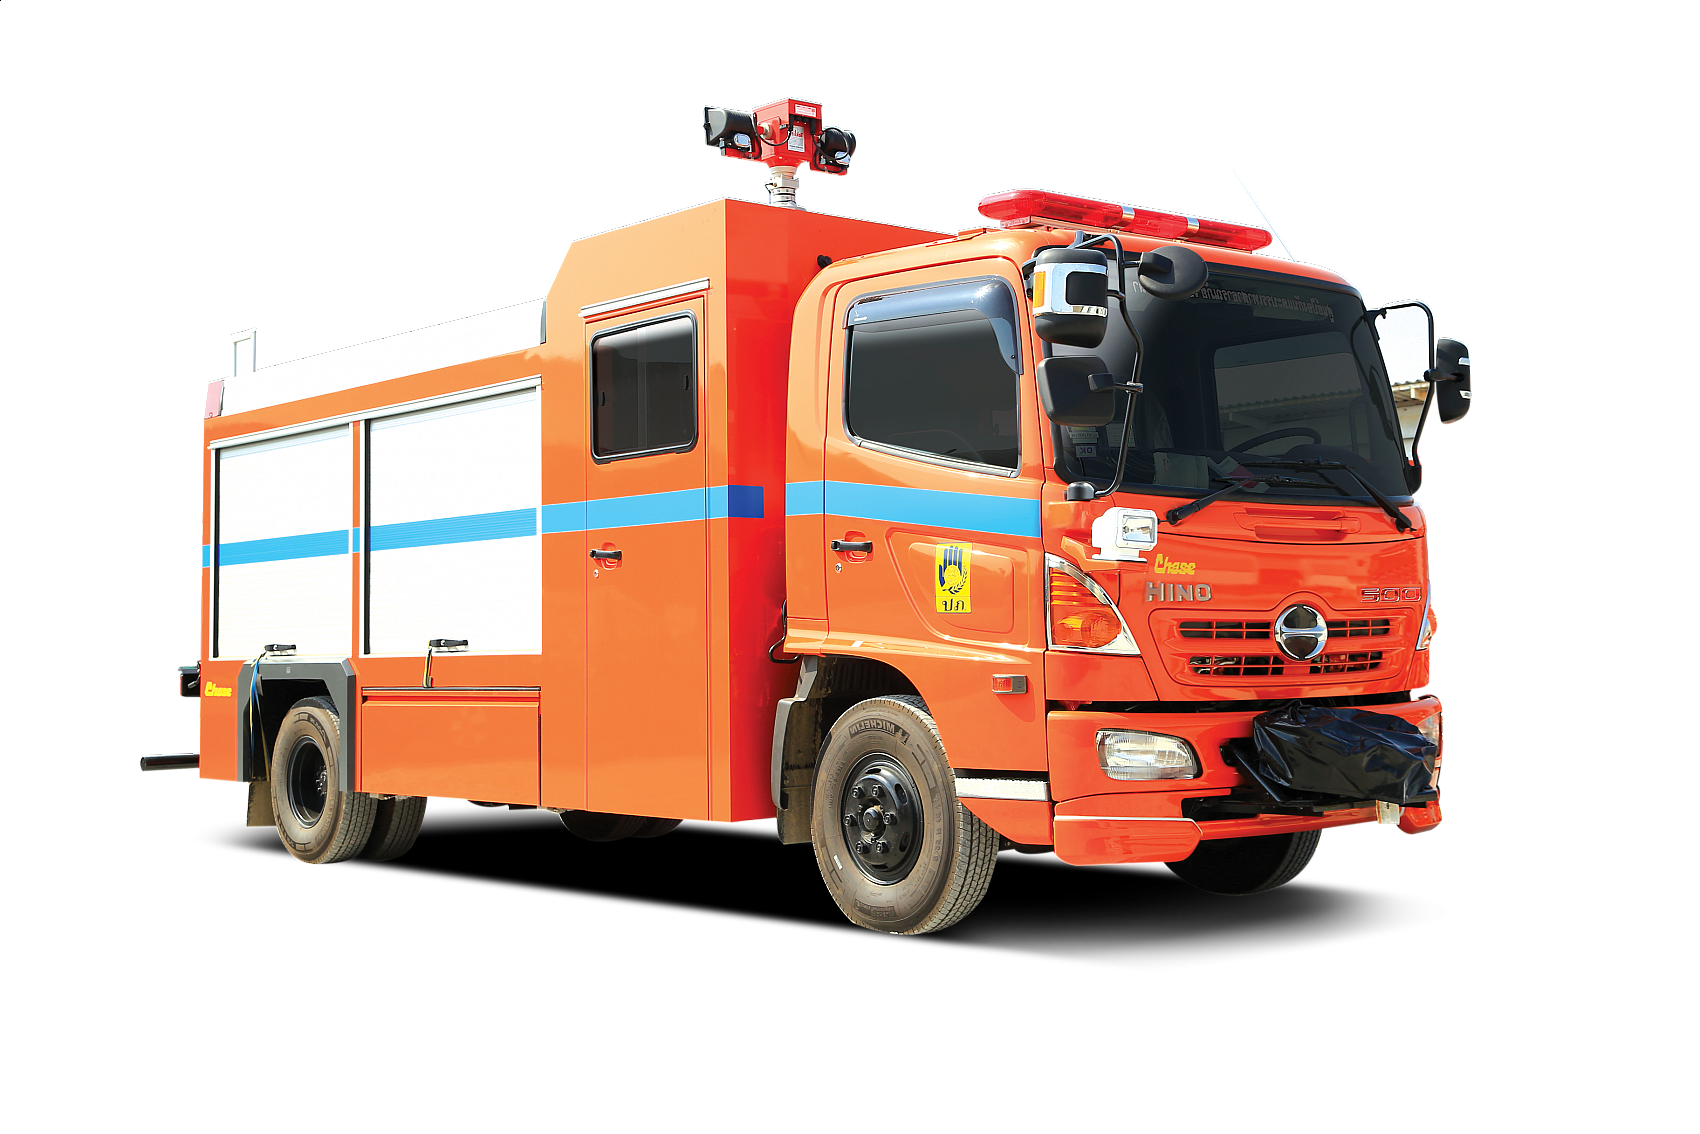truck: (176, 194, 1453, 942)
